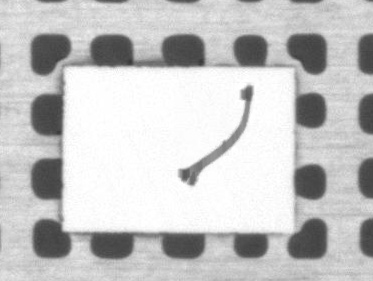DIE_INK: (214, 60, 360, 146)
